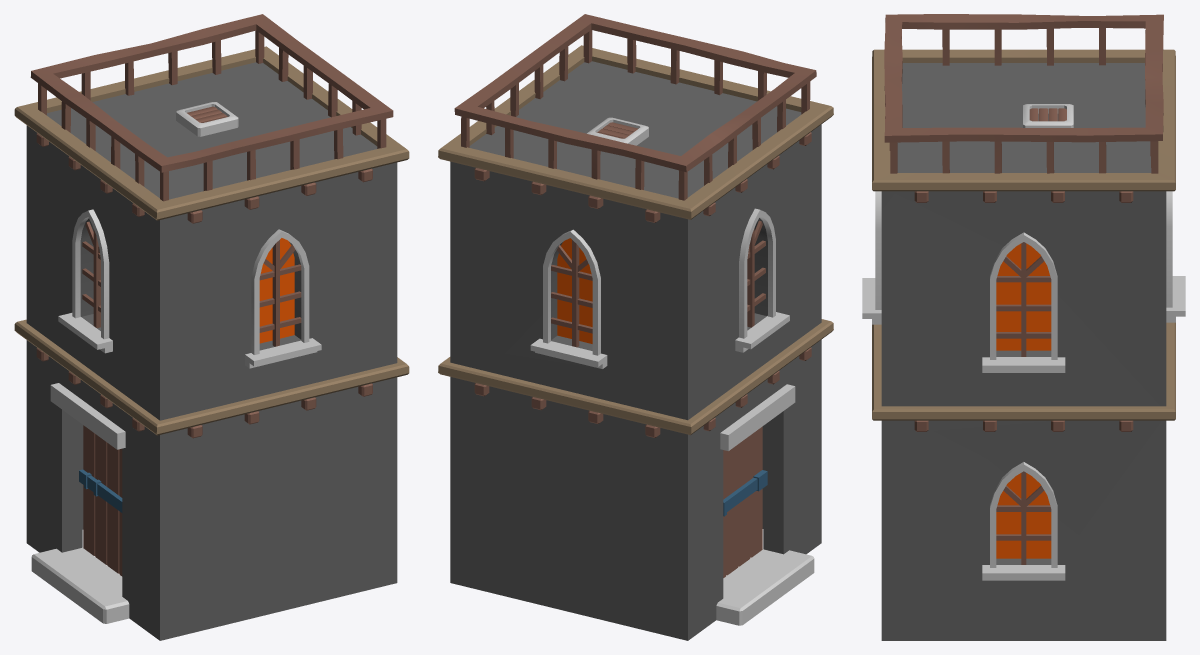
File: civilian_house_35_b.FBX
3 views of the same model, side by side, from view 1: azimuth 30°, elevation 25°; view 2: azimuth 150°, elevation 25°; view 3: azimuth 270°, elevation 25° (orthographic). The views are drawn at different scales.
Visible parts, largest first — view 1: civilian_house_35_b_LOD0; view 2: civilian_house_35_b_LOD0; view 3: civilian_house_35_b_LOD0.
Part boxes in pixels (x1,y1,x2,y2): civilian_house_35_b_LOD0: [14, 14, 409, 640]; civilian_house_35_b_LOD0: [438, 14, 833, 640]; civilian_house_35_b_LOD0: [862, 14, 1185, 640].
Size of what is drawn, in the model's own units: 541 by 882 by 511.
